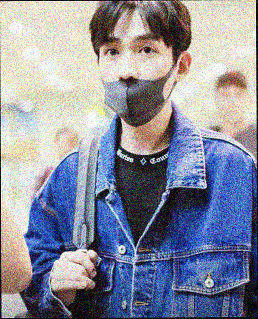mask_weared_incorrect: (97, 30, 177, 128)
without_mask: (217, 88, 247, 122)
